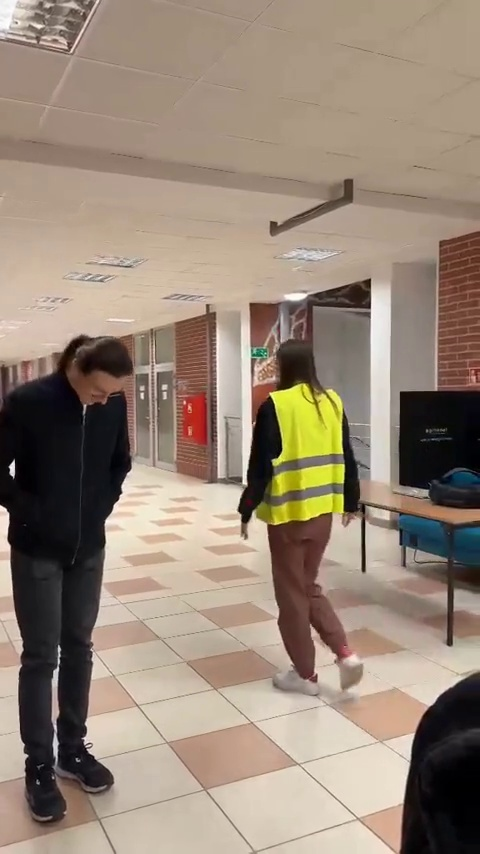no vest: (0, 322, 147, 821)
vest: (247, 340, 372, 691)
